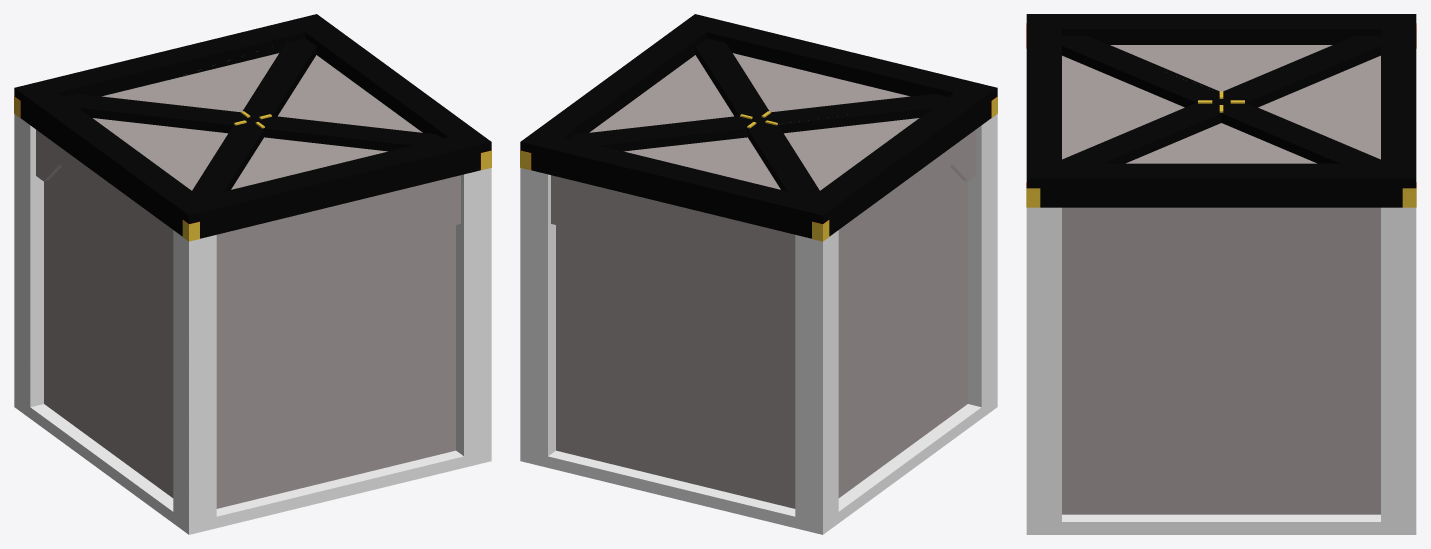
File: SupplyBox.fbx
3 views of the same model, side by side, from view 1: azimuth 30°, elevation 25°; view 2: azimuth 150°, elevation 25°; view 3: azimuth 270°, elevation 25° (orthographic). The views are drawn at different scales.
Parts seen in each view (by area): view 1: node_id15 (×5), node_id11 (×2); view 2: node_id15 (×5), node_id11 (×2); view 3: node_id15 (×4), node_id11 (×2).
Boxes of the visible parts, x1,y1,x2,y2 form: node_id15 (×5): (14,53,491,534); node_id11 (×2): (14,14,491,241); node_id15 (×5): (520,53,997,534); node_id11 (×2): (520,14,997,241); node_id15 (×4): (1026,45,1416,534); node_id11 (×2): (1026,14,1416,207).
Bounding box in the file's own units: 0.5083 × 0.512 × 0.5083.
10 materials, 1 textured.
